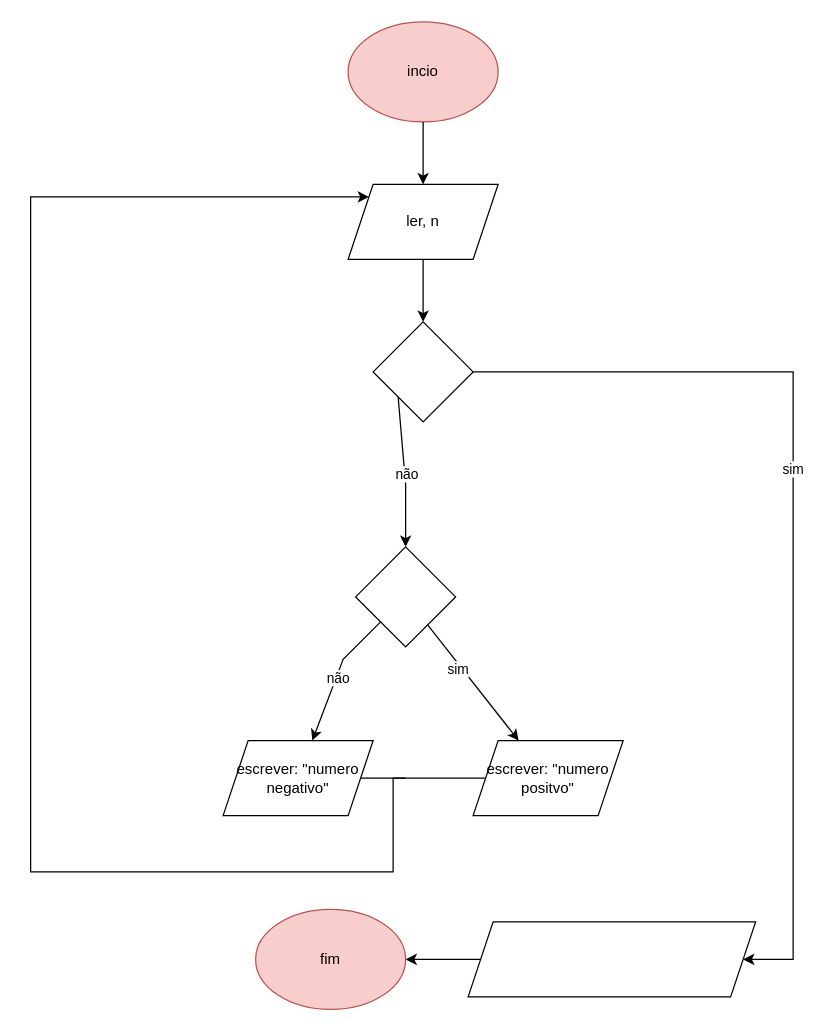
The diagram is 825 pixels wide and 1031 high, and some of its shapes have lost their labels. The shapes that lost their labels are listed below. From the top down, each one's centre as x and y in pixels, then its label:
point 422,371: n==0
point 405,596: n>0
point 611,959: escrever:"numero igual a zero fechar programa"
